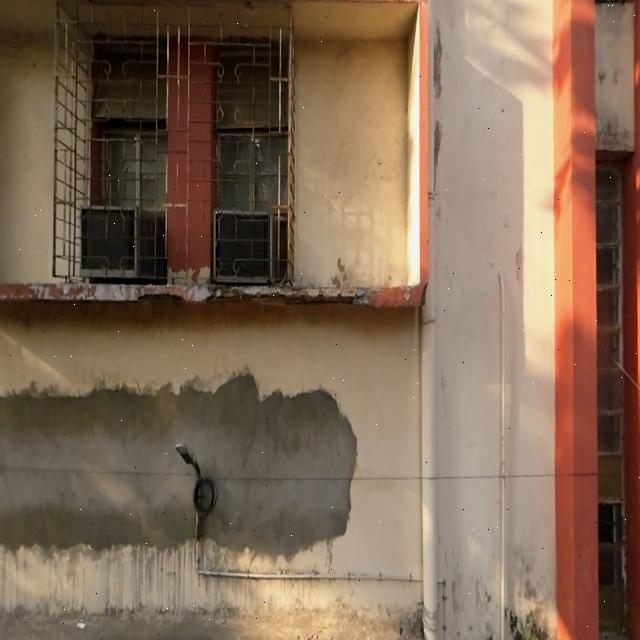Incomplete Plaster Work: (0, 374, 357, 559)
